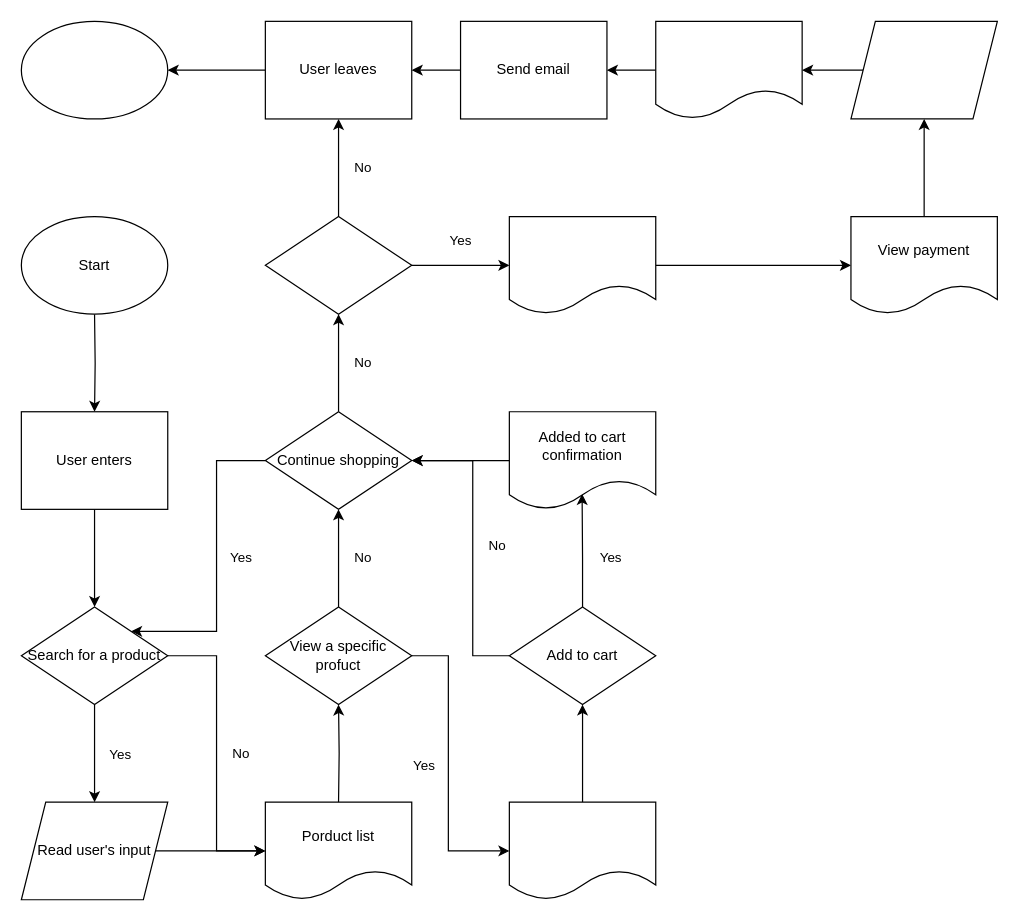
Image size: 1019x921. Some labels were removed from this diagram. The centre of each missing label's shape, as x and y in pixels:
"Checkout" belongs at (x=338, y=264).
"Confirmation" belongs at (x=728, y=69).
"End" belongs at (x=94, y=69).
"Product's webpage" belongs at (x=582, y=850).
"Read payment information" belongs at (x=923, y=69).
"View cart" belongs at (x=582, y=264).
